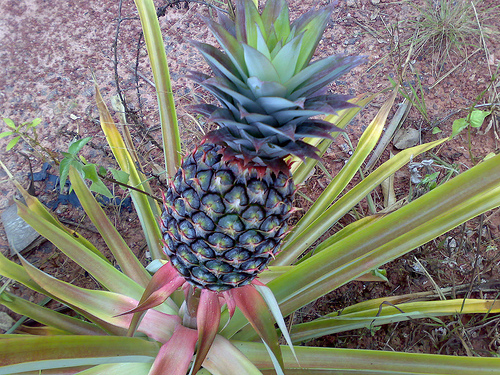pineapple: (162, 3, 360, 289)
